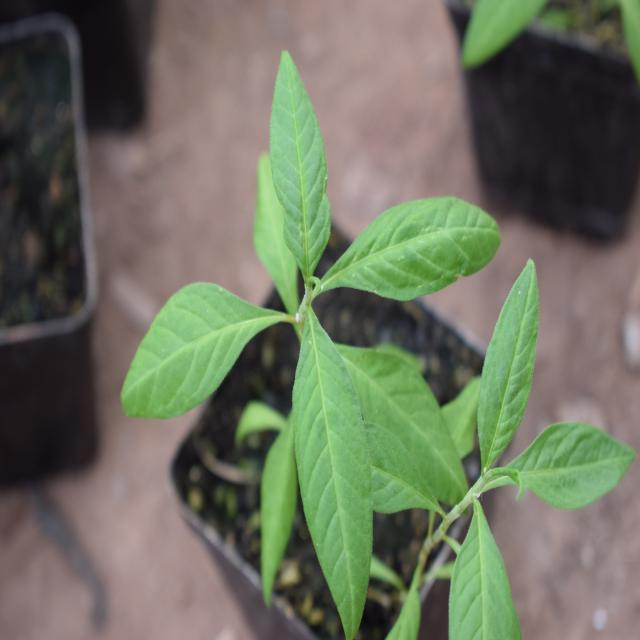white_smart_weed: (148, 22, 458, 598)
